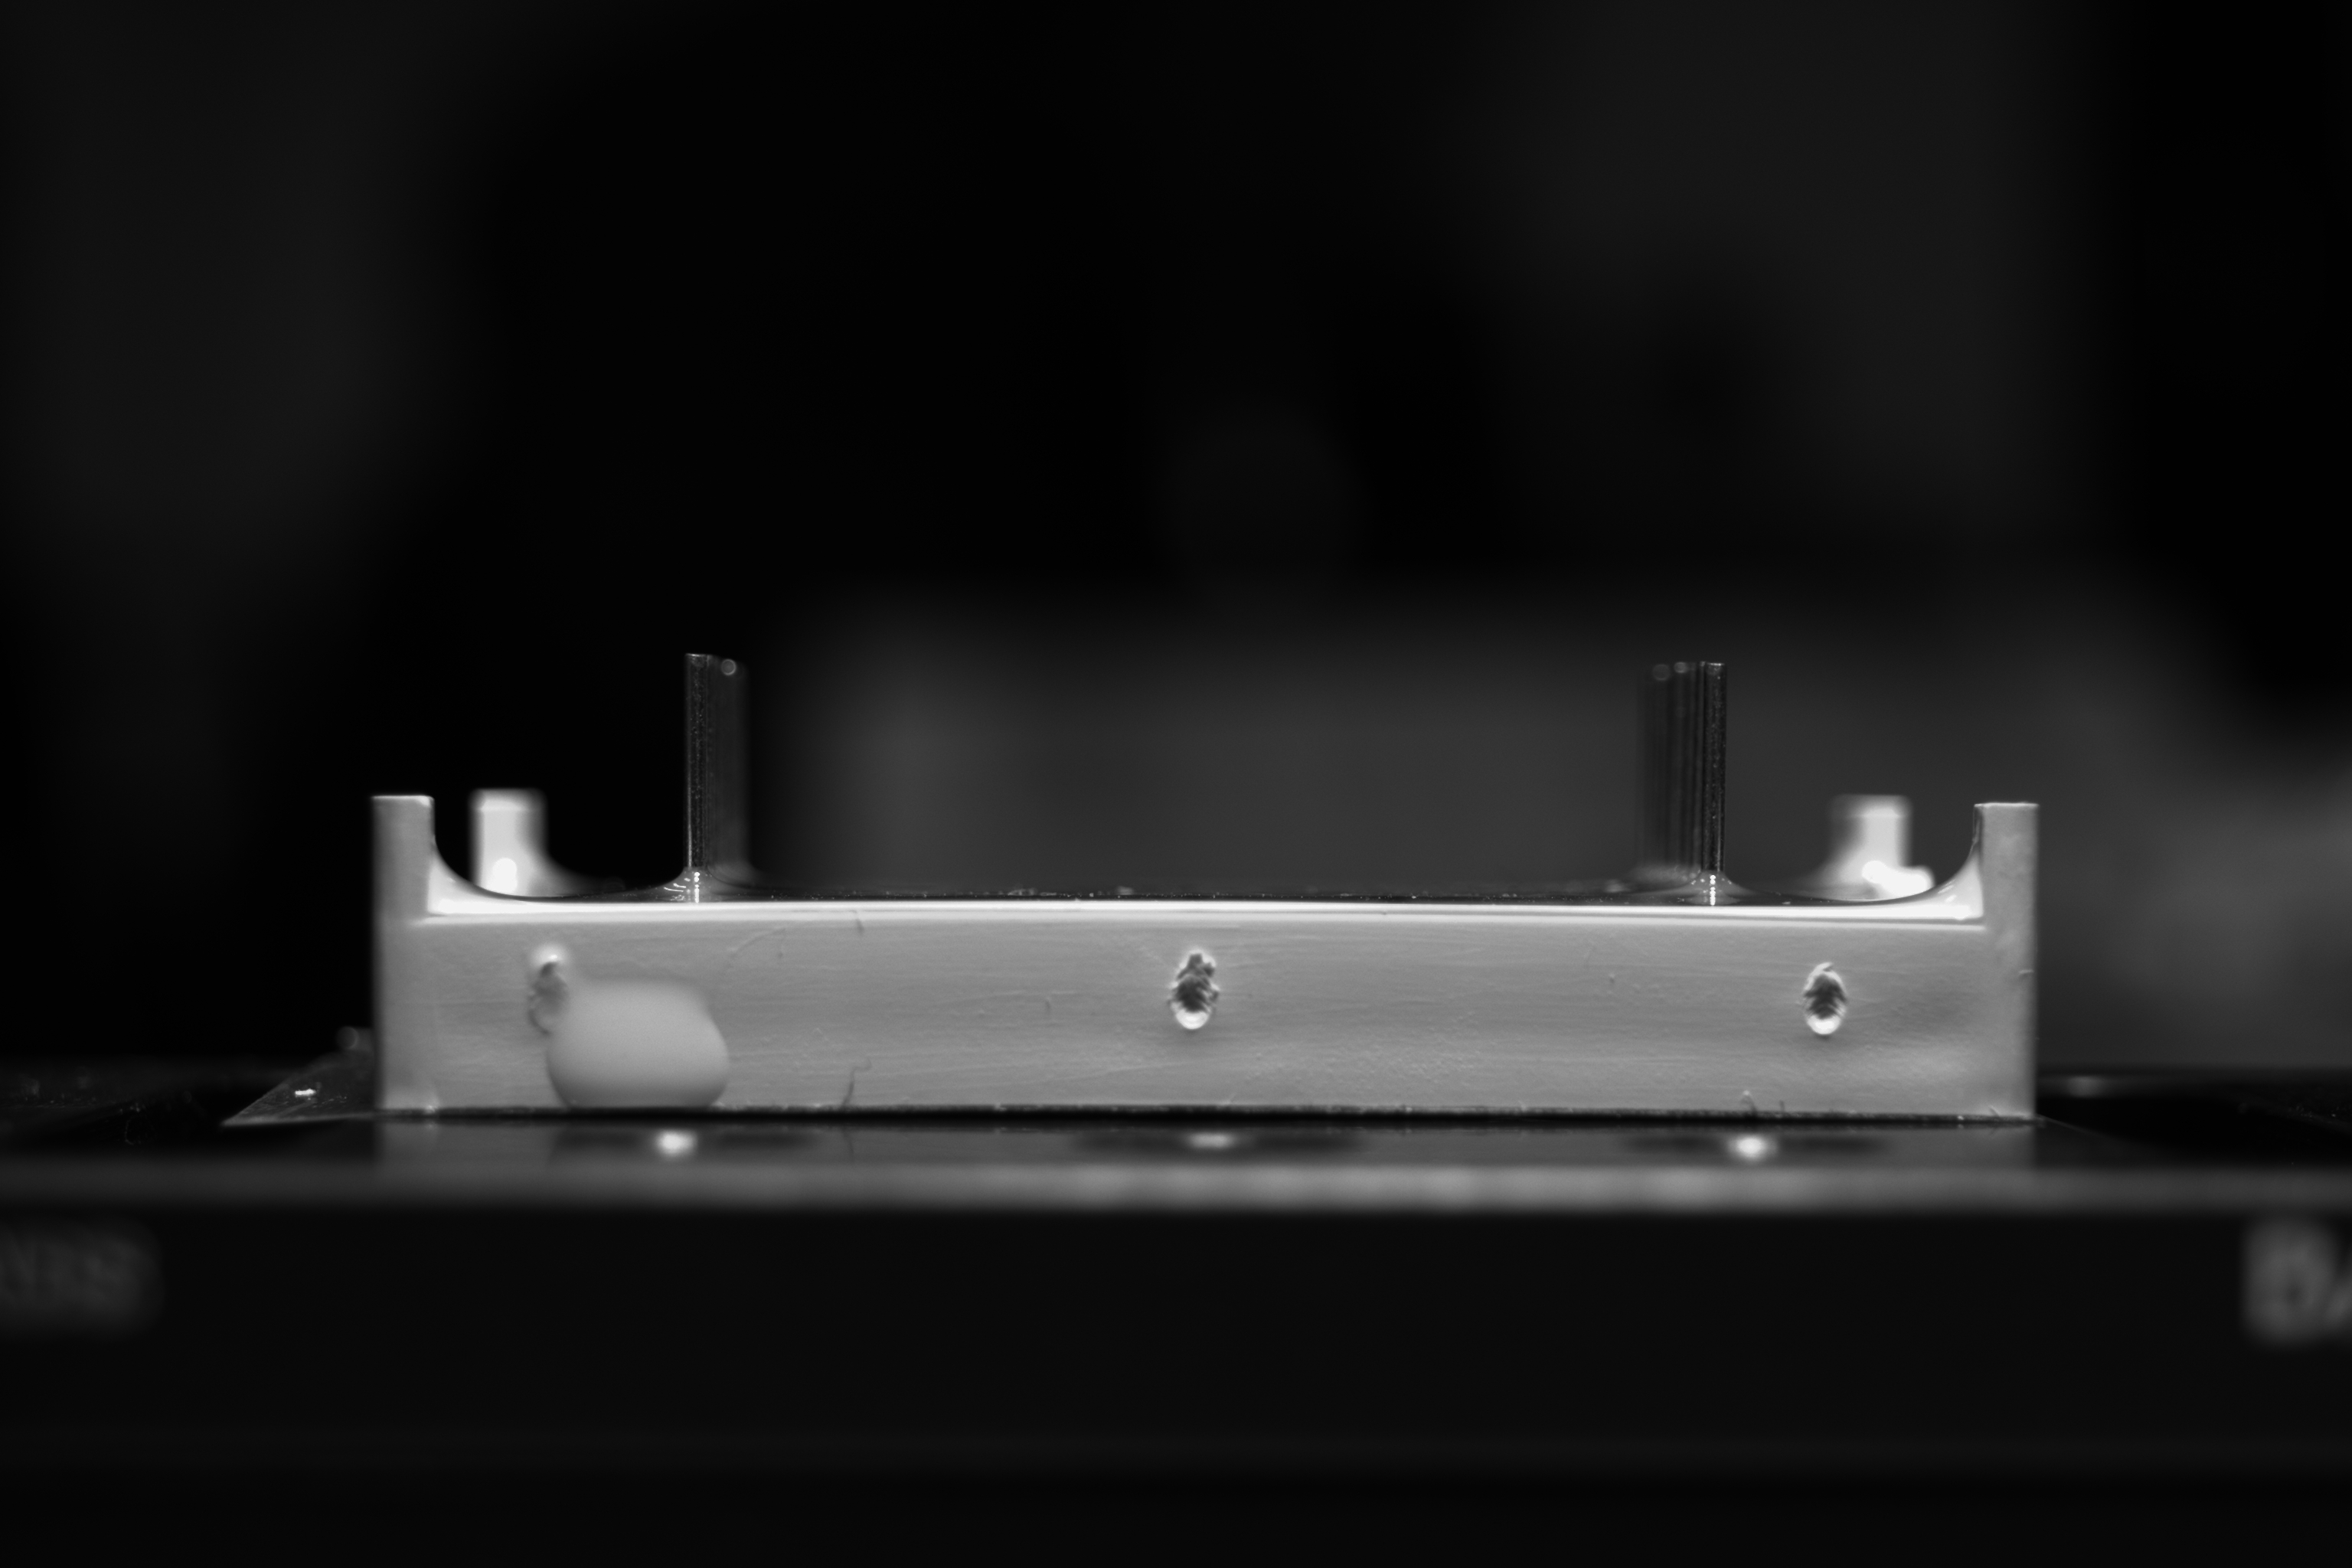Component: (360, 644, 2054, 1132)
Injection_hole: (1167, 947, 1220, 1034), (1799, 961, 1850, 1039), (527, 955, 572, 1036)
